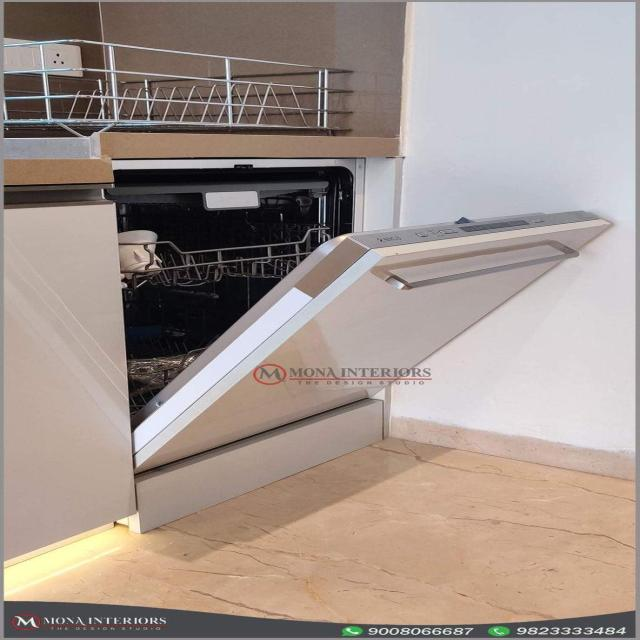dishwasher: (38, 118, 504, 632)
